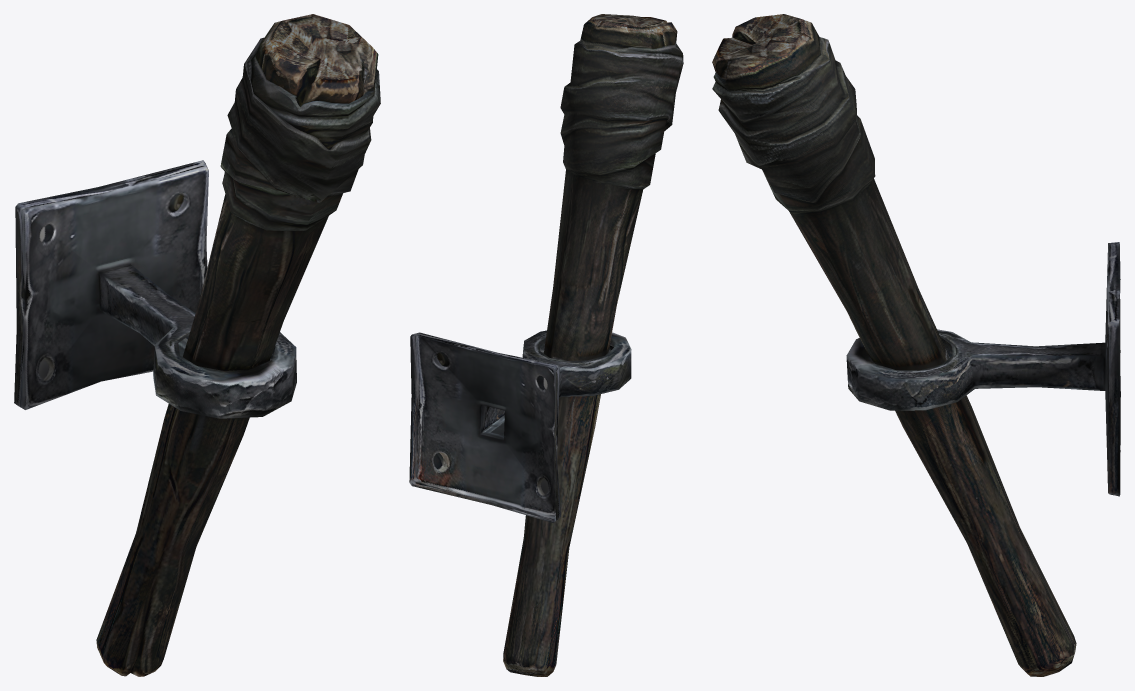
File: torcia.glb
3 renders of one model, left to right at view 1: azimuth 30°, elevation 25°; view 2: azimuth 150°, elevation 25°; view 3: azimuth 270°, elevation 25°, orthographic. The views are drawn at different scales.
Visible parts, largest first — view 1: torcia; view 2: torcia; view 3: torcia.
Part boxes in pixels (x1,y1,x2,y2): torcia: (14, 14, 380, 676); torcia: (409, 14, 683, 676); torcia: (712, 14, 1120, 676).
Size of the model in its own units: 0.2681 by 0.9995 by 0.563.
Materials: 1 (1 with a texture image).
